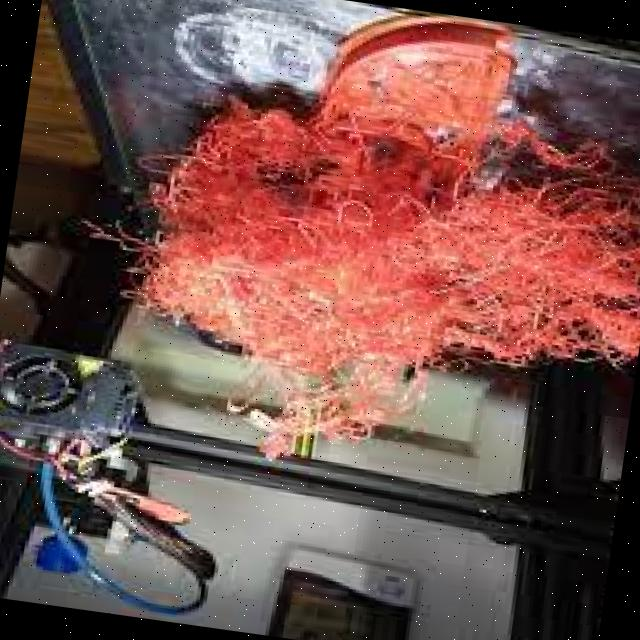spaghetti: (59, 71, 640, 496)
